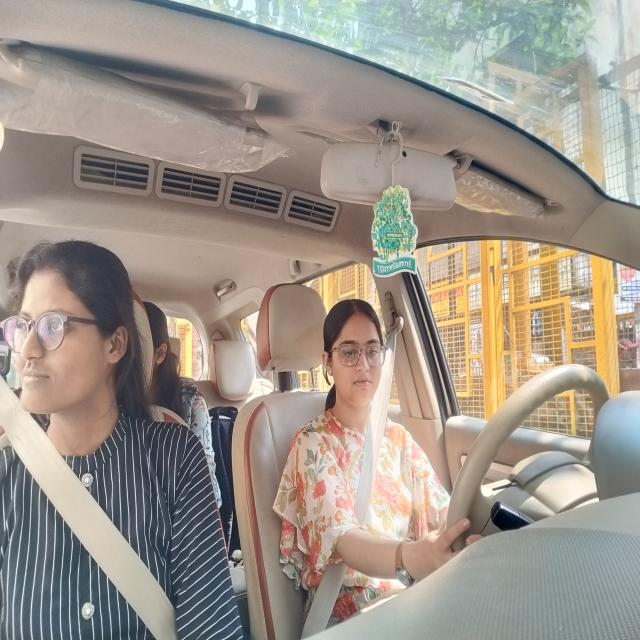person: (2, 243, 136, 417), (323, 306, 382, 414)
